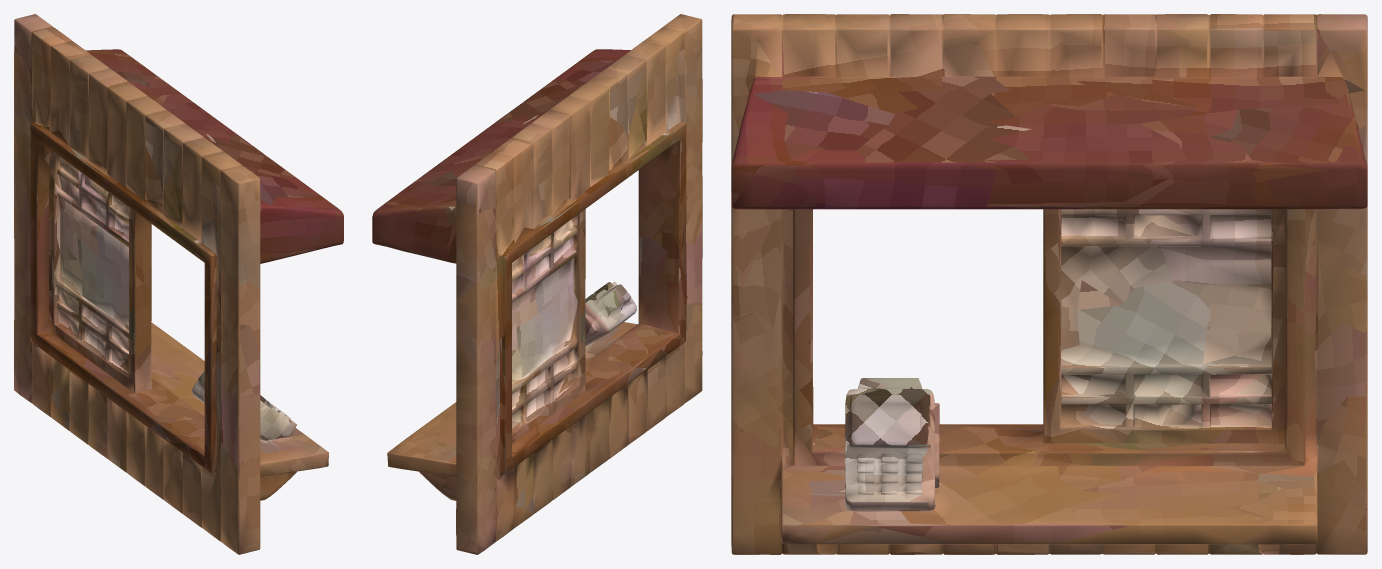
The model's file is JP_사물_s2_sm_drive_thru_counter.glb.
The picture shows the model from 3 angles, left to right: view 1: azimuth 30°, elevation 25°; view 2: azimuth 150°, elevation 25°; view 3: azimuth 270°, elevation 25°; orthographic projection. The views are drawn at different scales.
Visible parts, largest first — view 1: tripo_node_d5309cd5-e631-4d32-9e90-d9d5a399c0b1; view 2: tripo_node_d5309cd5-e631-4d32-9e90-d9d5a399c0b1; view 3: tripo_node_d5309cd5-e631-4d32-9e90-d9d5a399c0b1.
Part boxes in pixels (x1=…): tripo_node_d5309cd5-e631-4d32-9e90-d9d5a399c0b1: x1=14, y1=14, x2=343, y2=554; tripo_node_d5309cd5-e631-4d32-9e90-d9d5a399c0b1: x1=372, y1=14, x2=702, y2=554; tripo_node_d5309cd5-e631-4d32-9e90-d9d5a399c0b1: x1=731, y1=14, x2=1367, y2=554.
Bounding box in the file's own units: 0.2943 × 0.9135 × 0.9998.
1 material, 1 textured.
